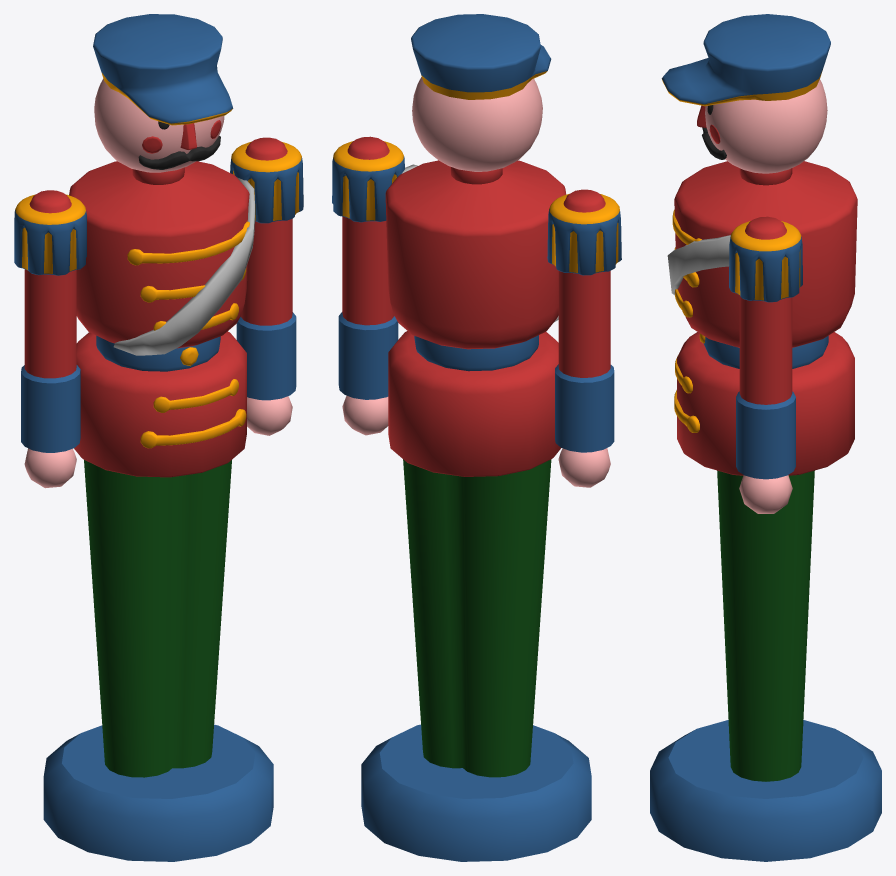
Rendered from Soldier_03.fbx.
3 renders of one model, left to right at view 1: azimuth 30°, elevation 25°; view 2: azimuth 150°, elevation 25°; view 3: azimuth 270°, elevation 25°, orthographic.
Visible parts, largest first — view 1: Soldier_03; view 2: Soldier_03; view 3: Soldier_03.
Part boxes in pixels (x1,y1,x2,y2): Soldier_03: (14, 14, 303, 861); Soldier_03: (332, 14, 621, 861); Soldier_03: (650, 14, 881, 861).
Size of the model in its own units: 363 by 964 by 261.
